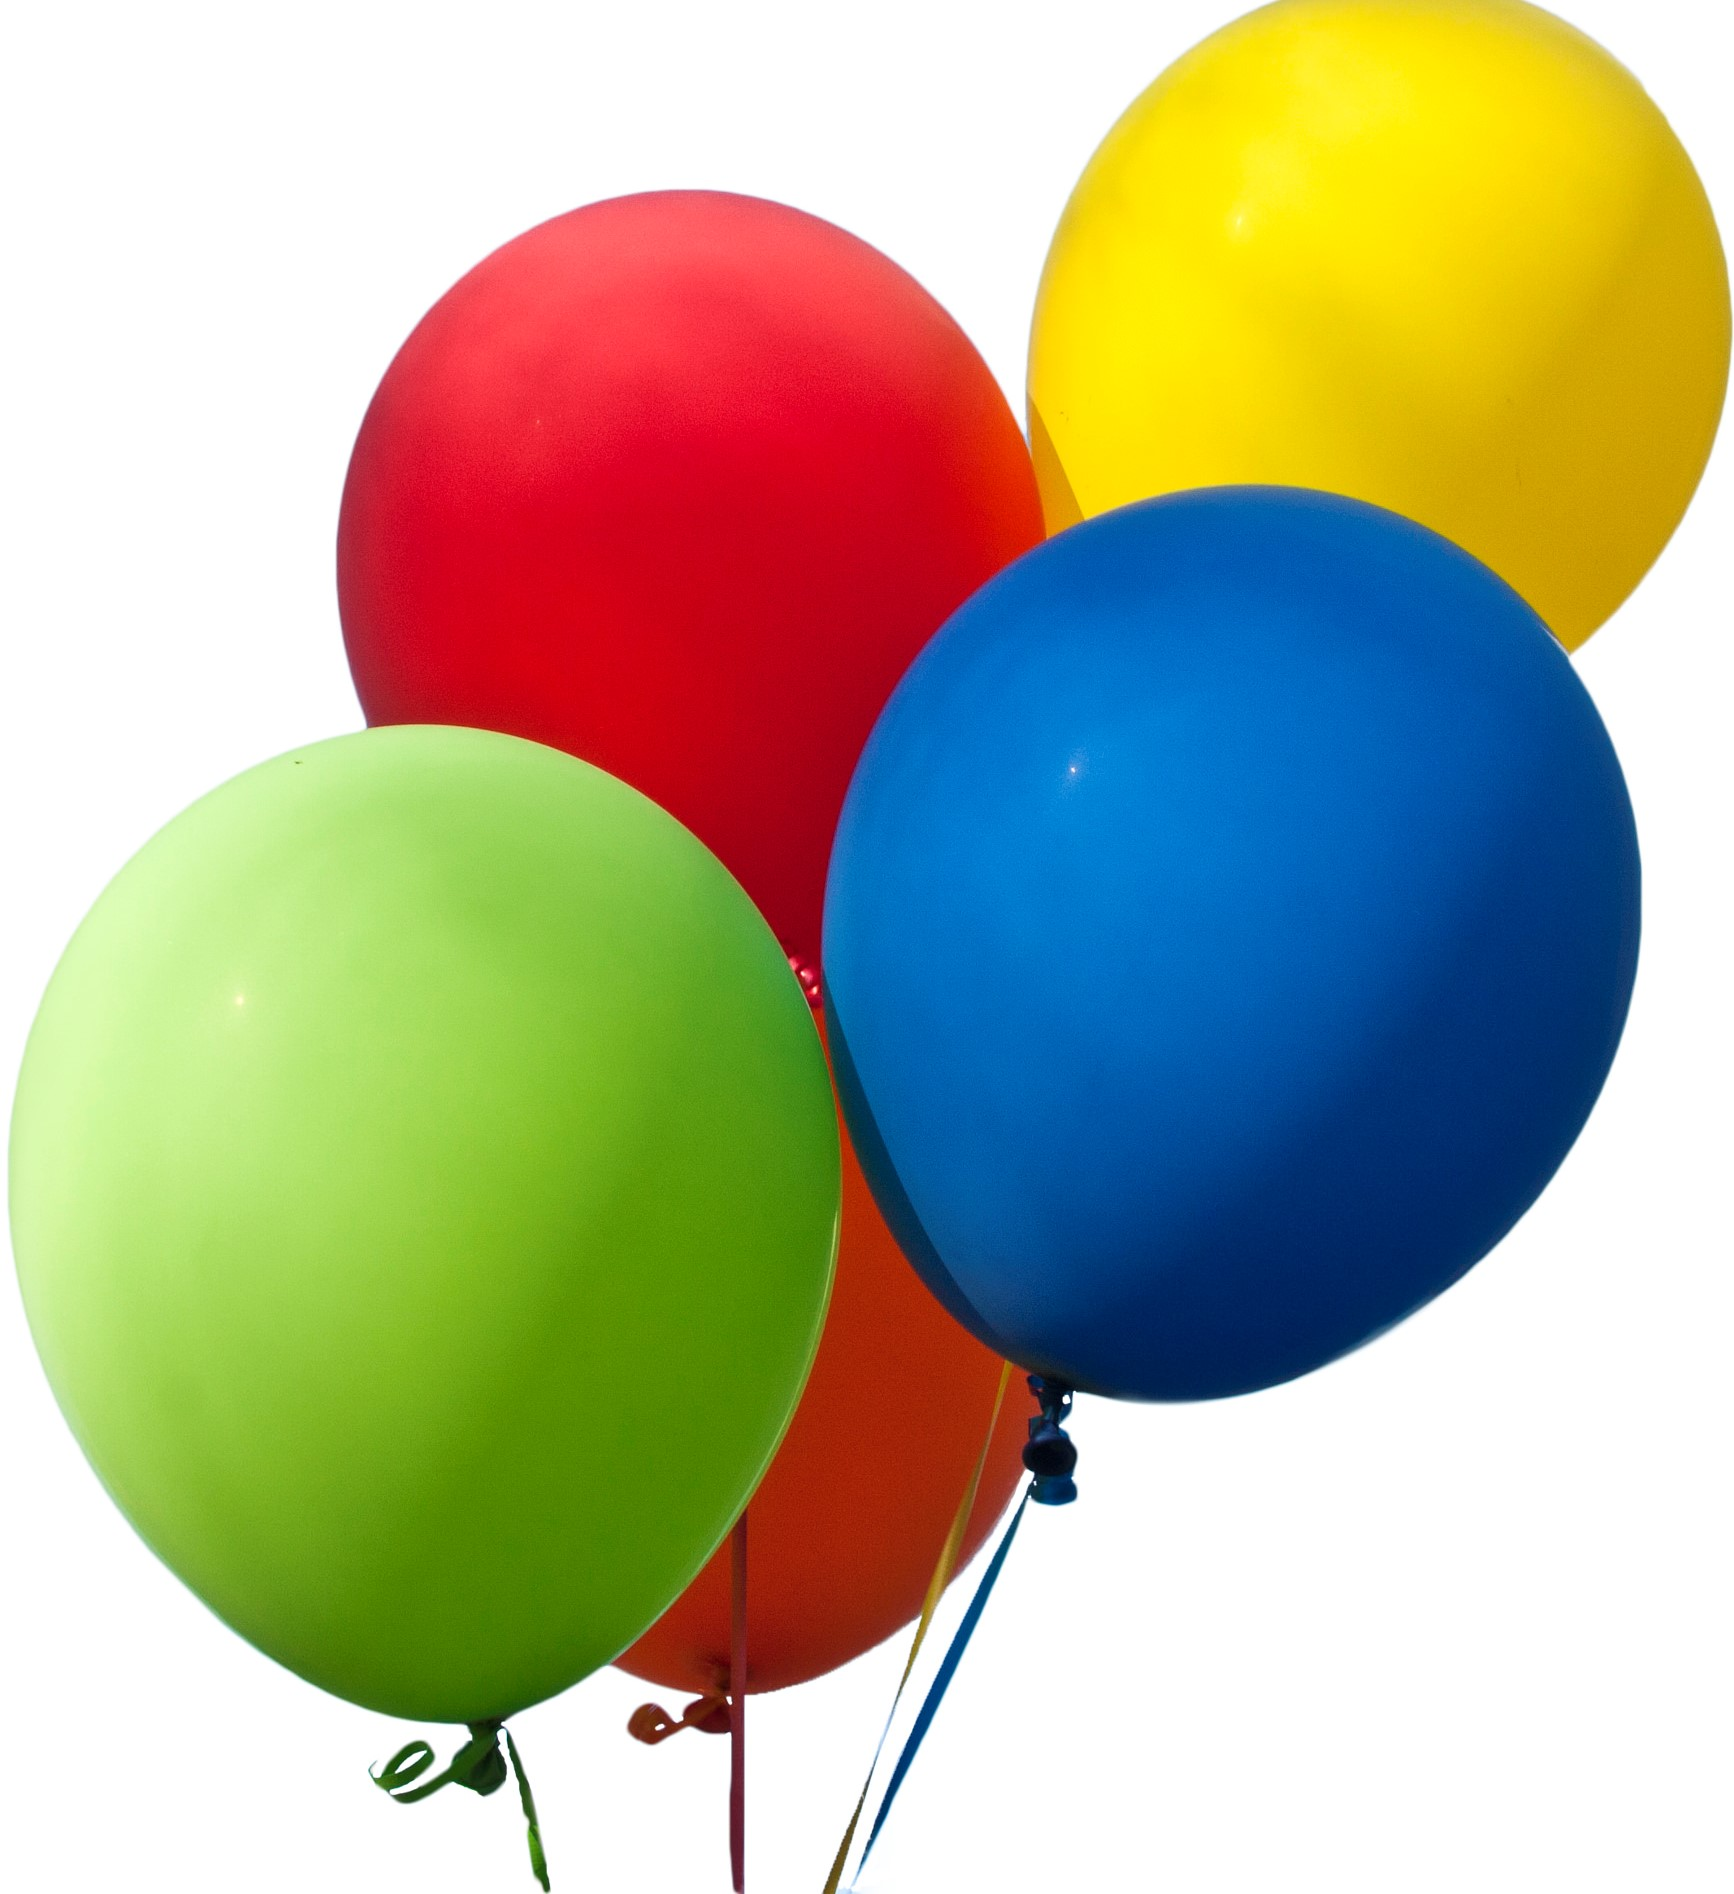Balloon: (8, 723, 850, 1732), (818, 482, 1648, 1412)
